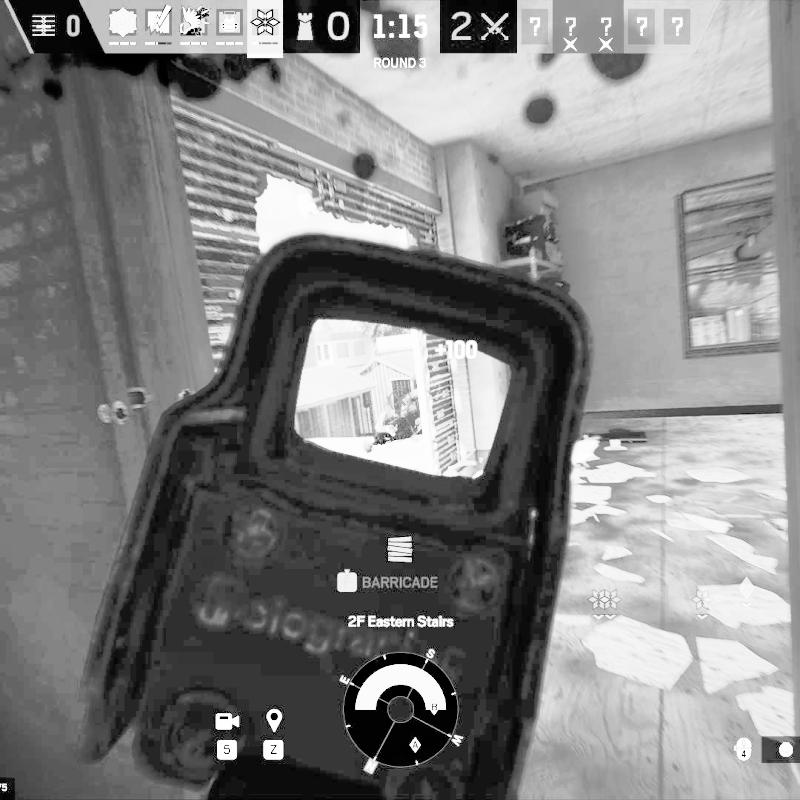Character: (362, 387, 422, 454)
